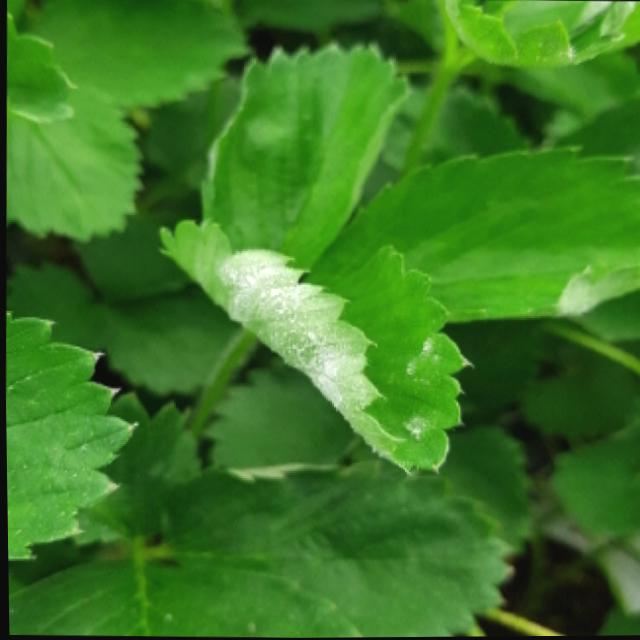Powdery Mildew Leaf: (152, 216, 473, 478), (299, 146, 640, 324), (4, 309, 137, 559), (443, 0, 640, 70)
